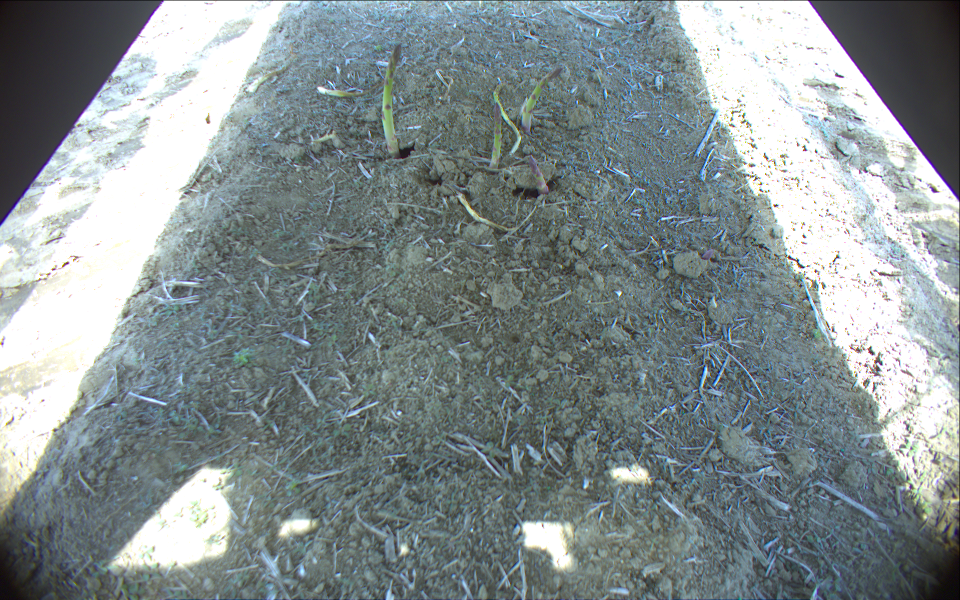aspa: (458, 193, 538, 230), (381, 42, 404, 161), (521, 66, 562, 132), (246, 51, 301, 97), (494, 80, 521, 157), (317, 81, 382, 97), (489, 102, 502, 169), (526, 155, 547, 193)
